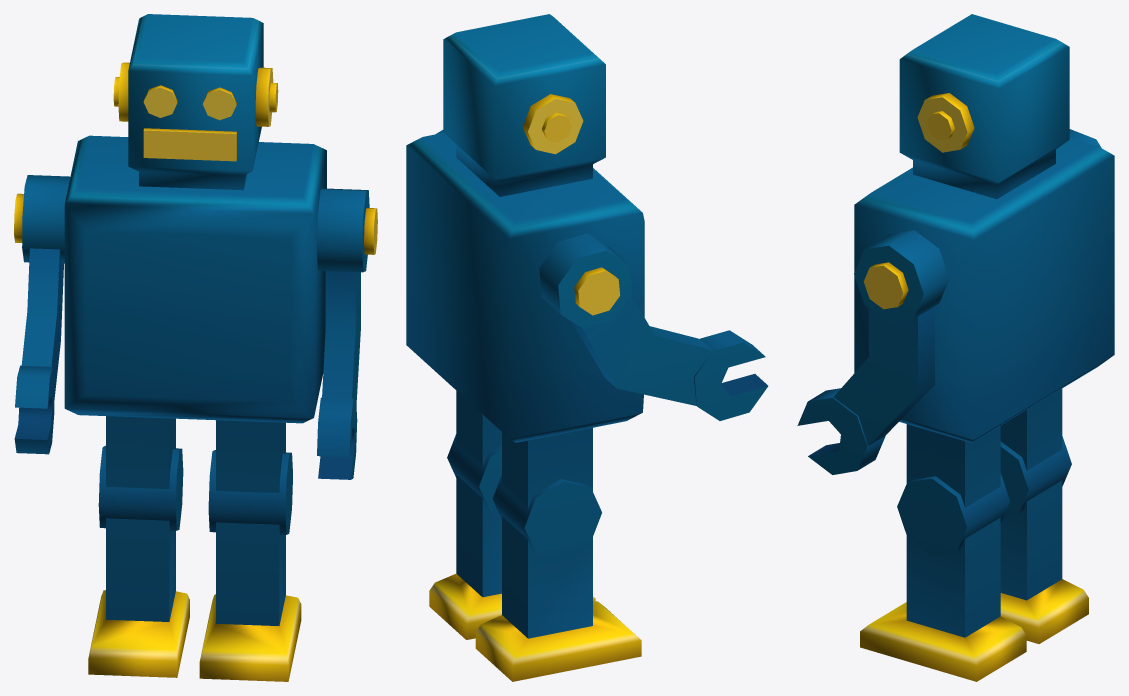
The model's file is Robot.fbx.
3 views of the same model, side by side, from view 1: azimuth 30°, elevation 25°; view 2: azimuth 150°, elevation 25°; view 3: azimuth 270°, elevation 25° (orthographic). The views are drawn at different scales.
Visible parts, largest first — view 1: Robot; view 2: Robot; view 3: Robot.
Part boxes in pixels (x1,y1,x2,y2): Robot: (14,14,377,681); Robot: (406,14,768,681); Robot: (797,14,1114,681).
Size of the model in its own units: 2364 by 3809 by 1857.
Materials: 1 (1 with a texture image).
